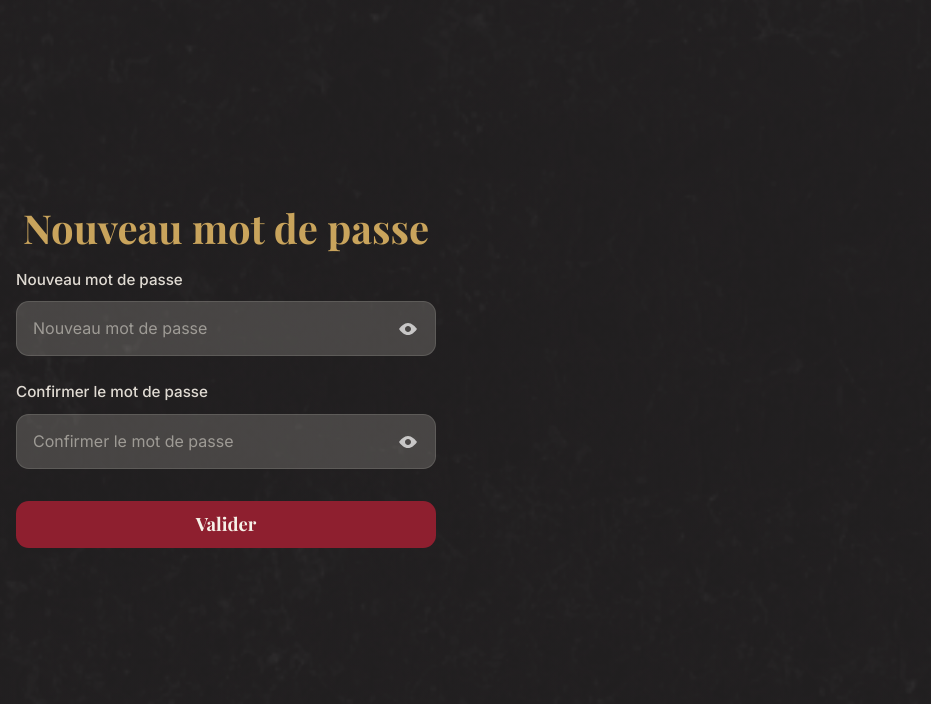
Scenario: ResetPassword › affiche l'erreur retournée par l'API en cas d'échec
The image size is (931, 704).
Type "MonMdp1234!" into the password field labelled "Nouveau mot de passe". click: (226, 329)
box: [16,301,436,356]
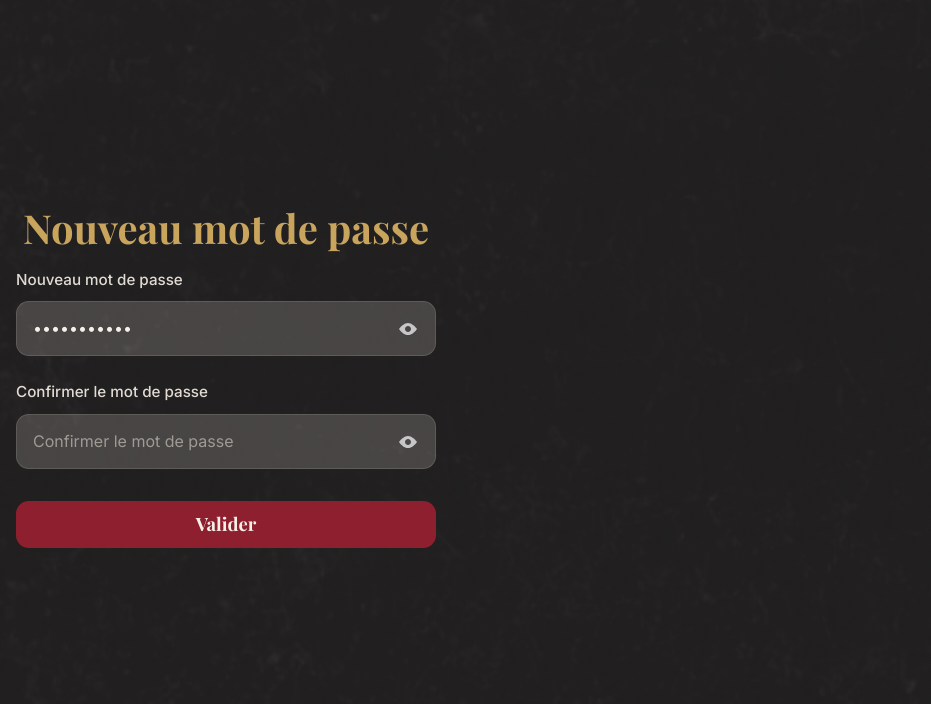
Type "MonMdp1234!" into the password field labelled "Confirmer le mot de passe". click: (226, 442)
box: [16,414,436,469]
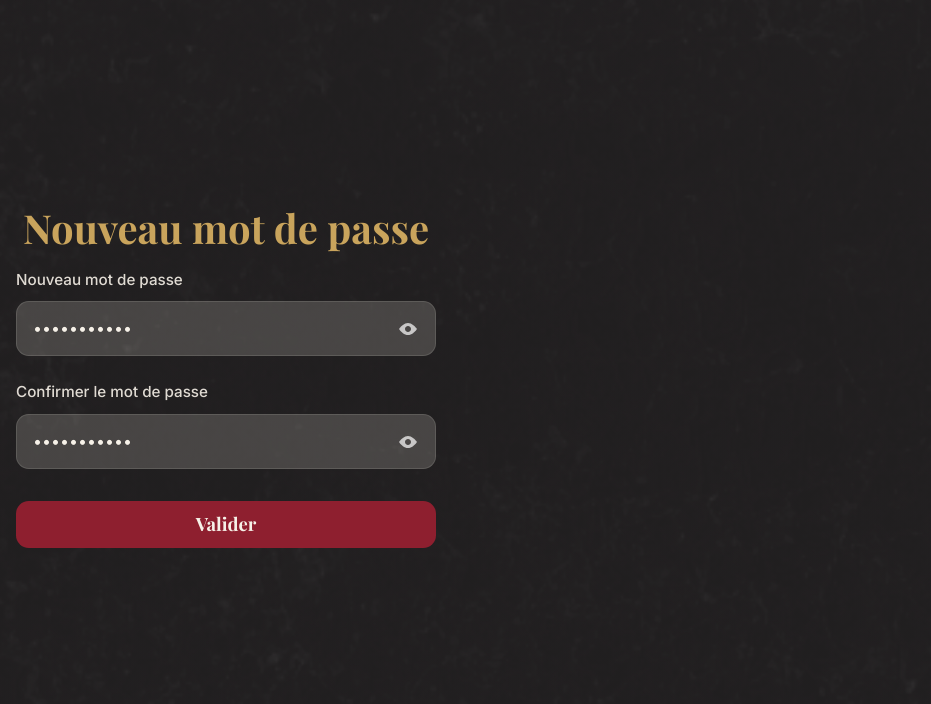
Click the button "Valider". click: (226, 525)
box: [16,501,436,548]
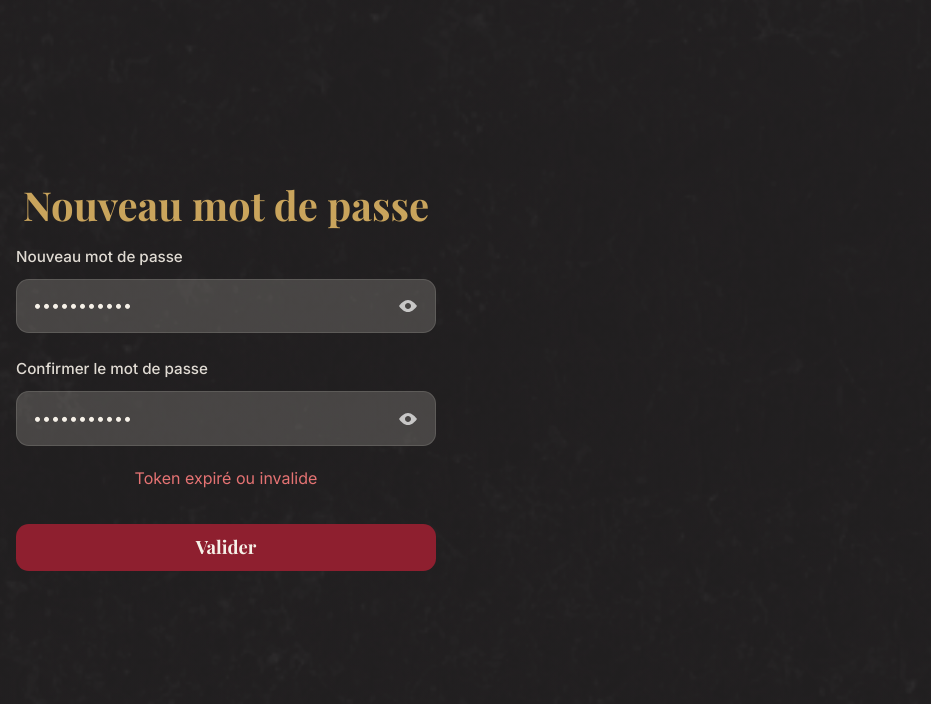
Expected: the text "Token expiré ou invalide" is shown, [135,468,317,488]
